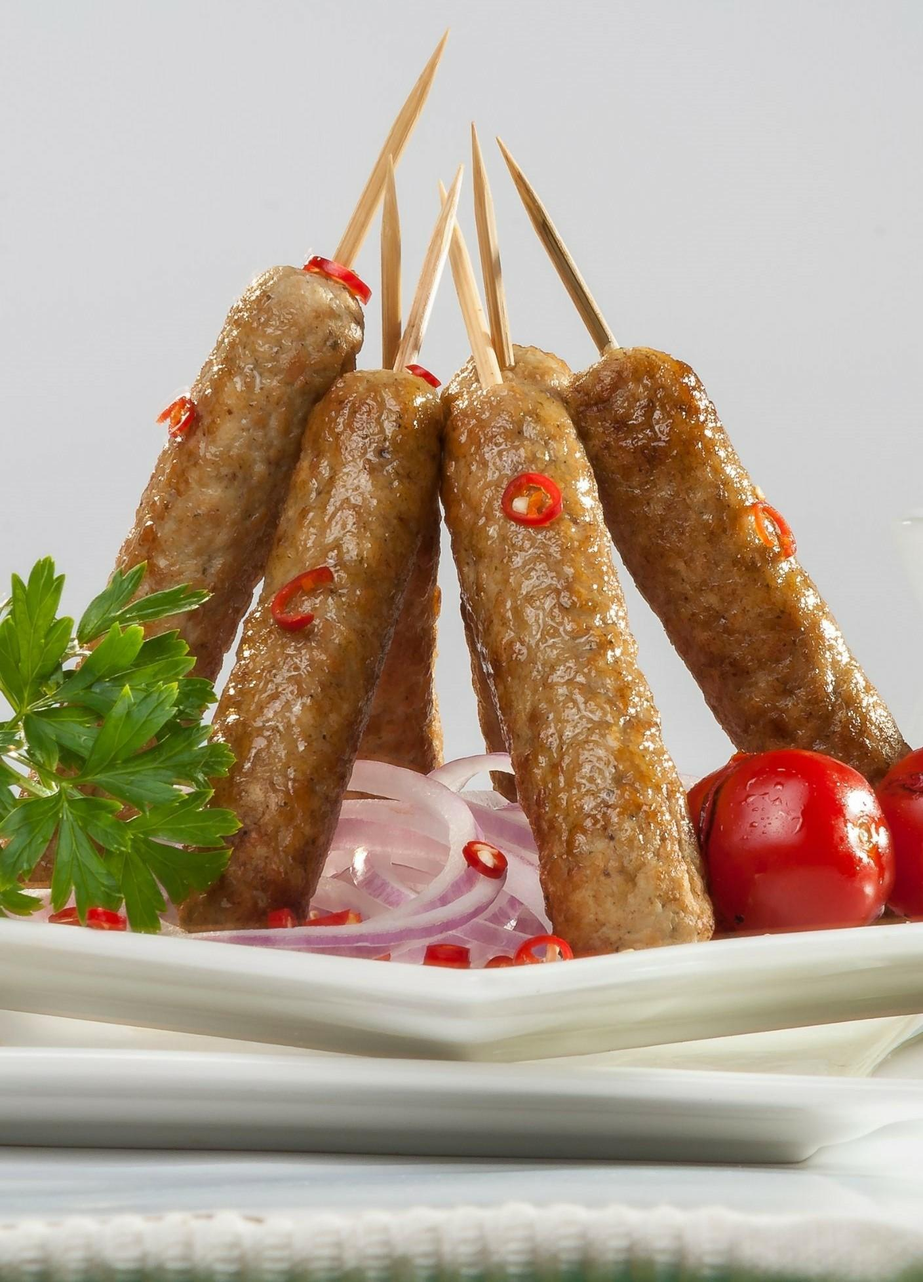Kebab: (54, 266, 364, 837), (444, 381, 718, 950), (177, 372, 443, 931), (575, 351, 911, 784)
